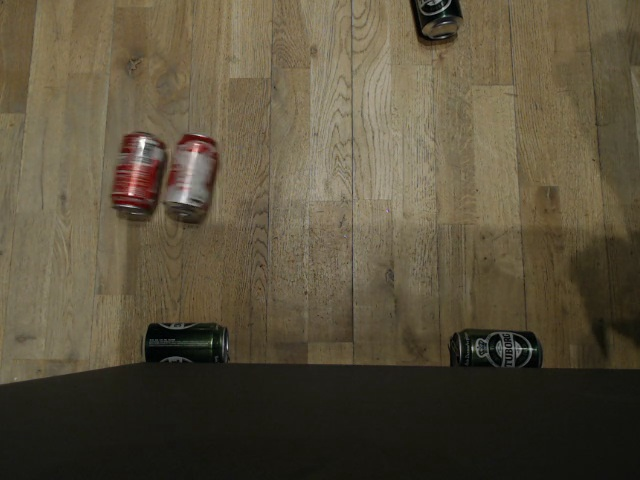beer: (450, 328, 544, 369), (137, 319, 229, 359), (408, 0, 464, 41)
cola: (107, 129, 167, 216), (162, 131, 221, 217)
